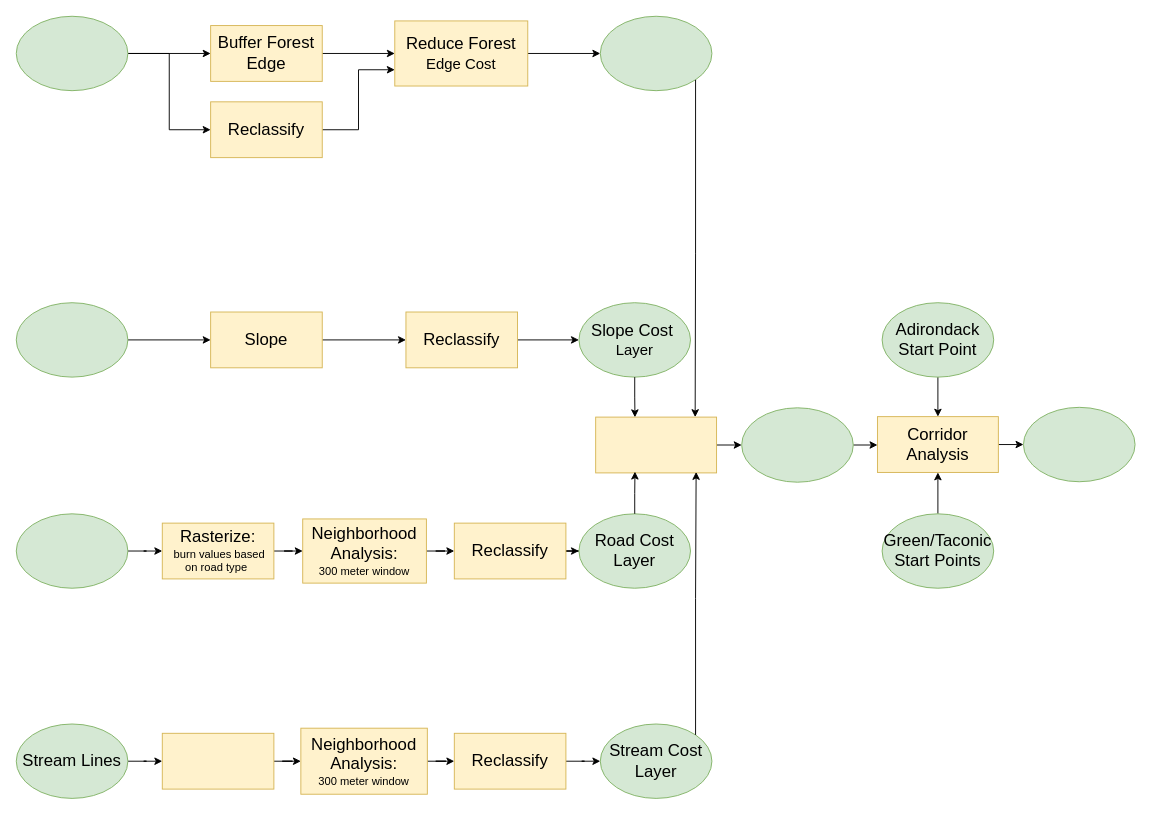
Some shapes in this 1151 by 815 pixel diagram are drawn without their labels. The centre of each missing label's shape, as x and y in pixels:
Corridor Results: the point at 1079,444
Elevation: the point at 71,339
Final Cost Surface: the point at 797,444
Land Cover: the point at 71,53
Land Cover Cost Layer: the point at 655,53
Rasterize: the point at 217,760
Road Lines: the point at 71,550
Weighted Sum: the point at 656,444
